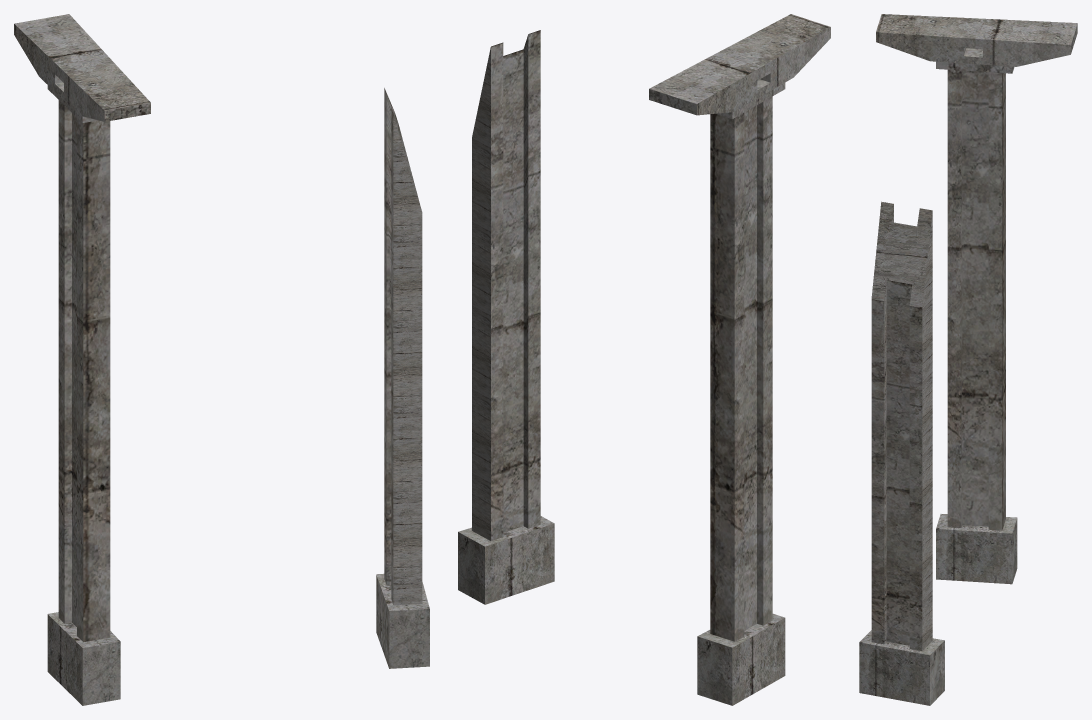
File: road collon.FBX
The picture shows the model from 3 angles, left to right: view 1: azimuth 30°, elevation 25°; view 2: azimuth 150°, elevation 25°; view 3: azimuth 270°, elevation 25°; orthographic projection. The views are drawn at different scales.
Visible parts, largest first — view 1: Object001, polySurface864; view 2: Object001, polySurface864; view 3: Object001, polySurface864.
Boxes of the visible parts, x1,y1,x2,y2 form: Object001: (14, 14, 150, 705); polySurface864: (376, 88, 429, 668); Object001: (649, 14, 830, 705); polySurface864: (458, 30, 554, 604); Object001: (876, 14, 1077, 584); polySurface864: (859, 201, 944, 705).
Bounding box in the file's own units: 239 × 415 × 151.
1 material, 1 textured.
